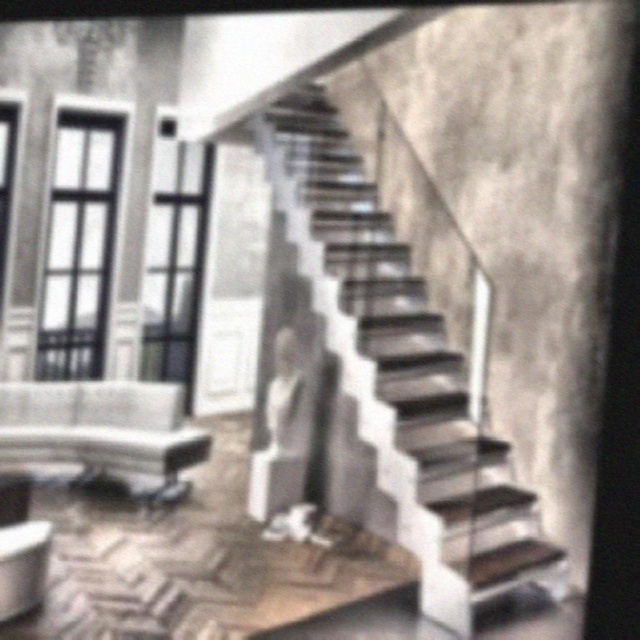stair: (363, 272, 603, 638)
